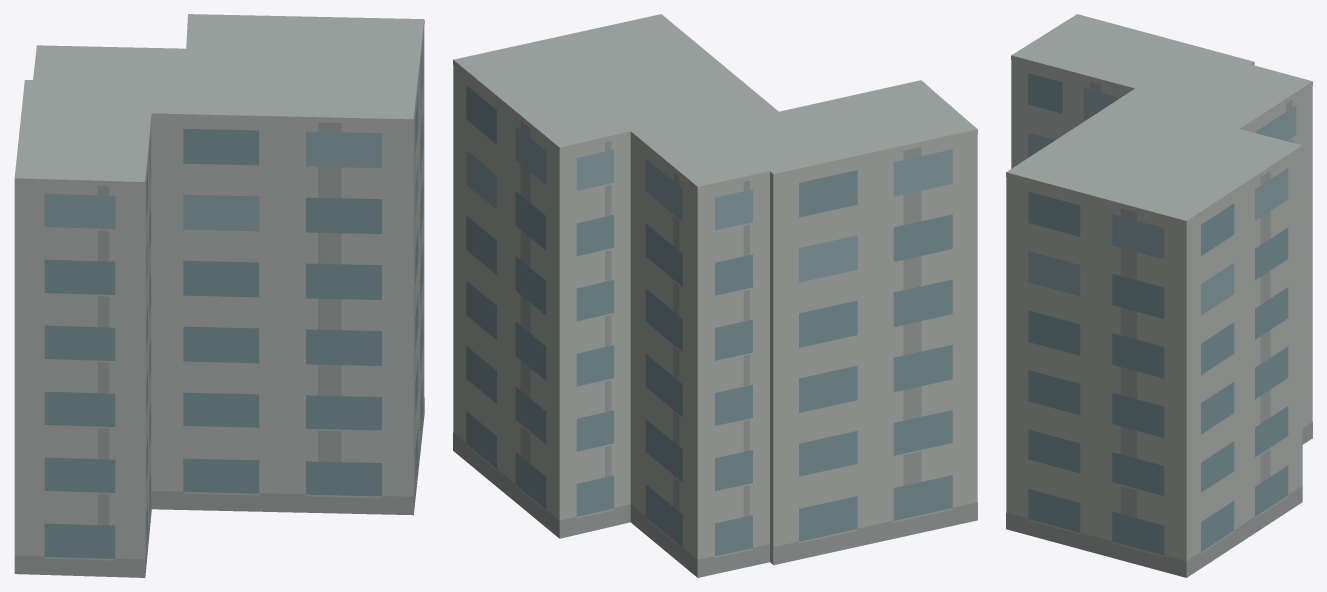
Rendered from survey-upis-32579067.glb.
3 renders of one model, left to right at view 1: azimuth 30°, elevation 25°; view 2: azimuth 150°, elevation 25°; view 3: azimuth 270°, elevation 25°, orthographic. The views are drawn at different scales.
Visible parts, largest first — view 1: survey-upis-32579067.tmp; view 2: survey-upis-32579067.tmp; view 3: survey-upis-32579067.tmp.
Boxes of the visible parts, x1,y1,x2,y2 form: survey-upis-32579067.tmp: (14,14,424,577); survey-upis-32579067.tmp: (453,14,977,577); survey-upis-32579067.tmp: (1006,14,1312,577).
Bounding box in the file's own units: 22.77 × 18.3 × 14.26.
